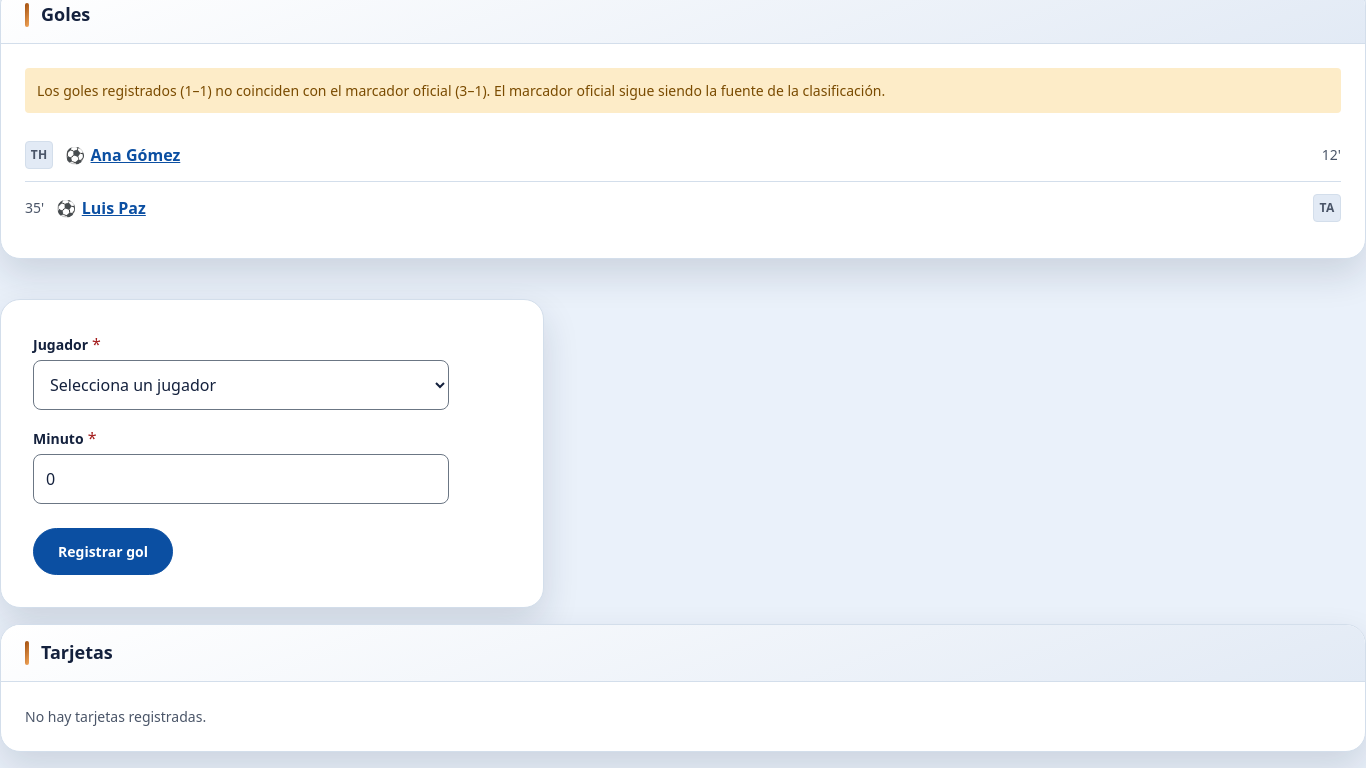
goles del partido › traduce el rechazo del jugador ajeno a un mensaje legible
(page scrolled)
Select "Ana Gómez (9)" in the dropdown labelled "Jugador" at (241, 385), box [33,360,449,410]
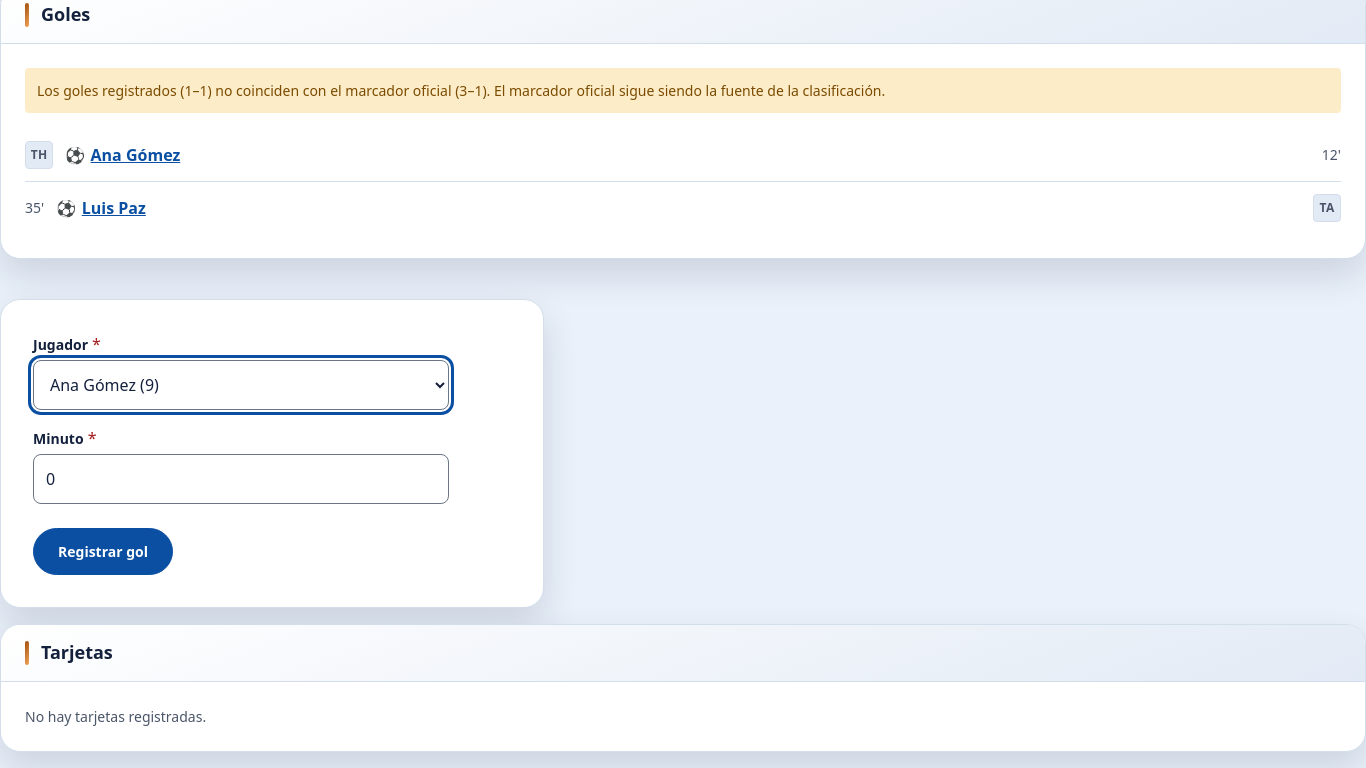
Replace the text in the number field labelled "Minuto" with "10" at (241, 479), box [33,454,449,504]
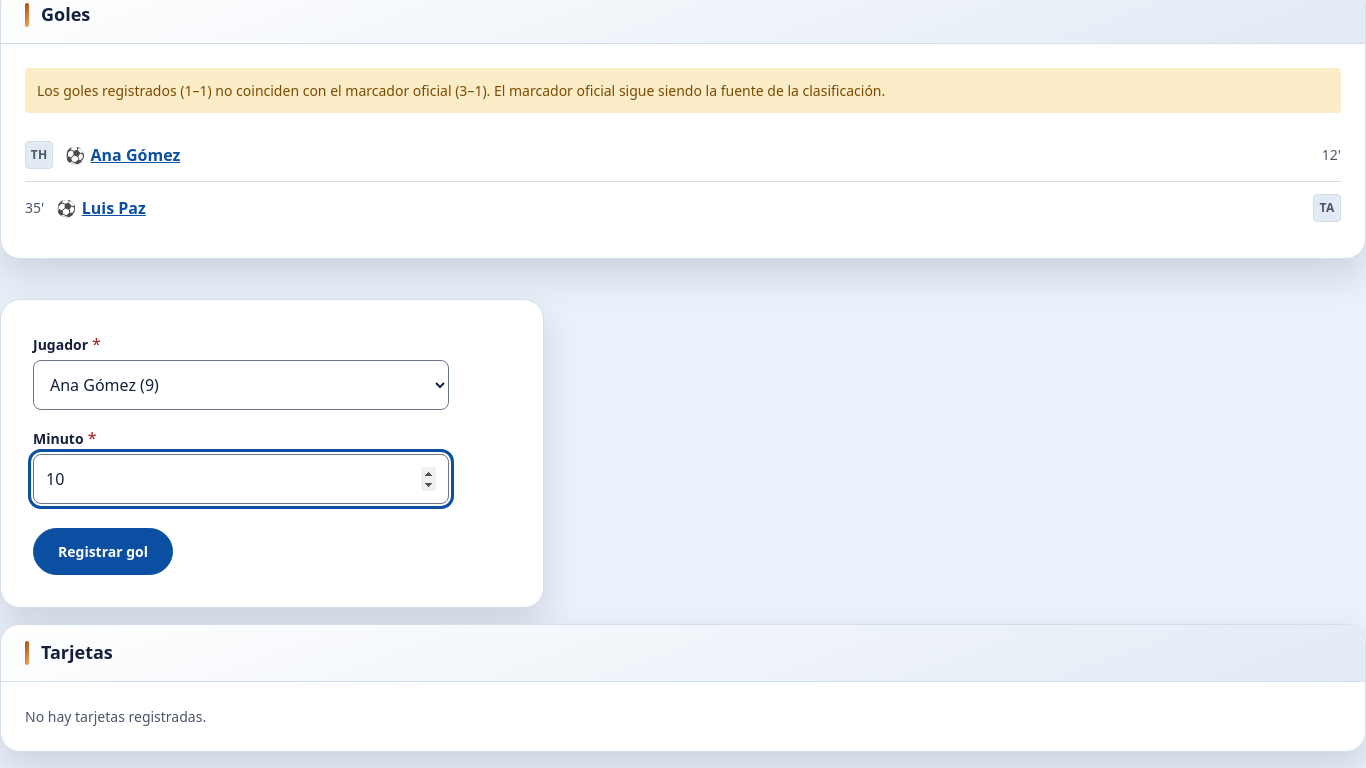
Click the button "Registrar gol" at (103, 551), box [33,528,173,575]
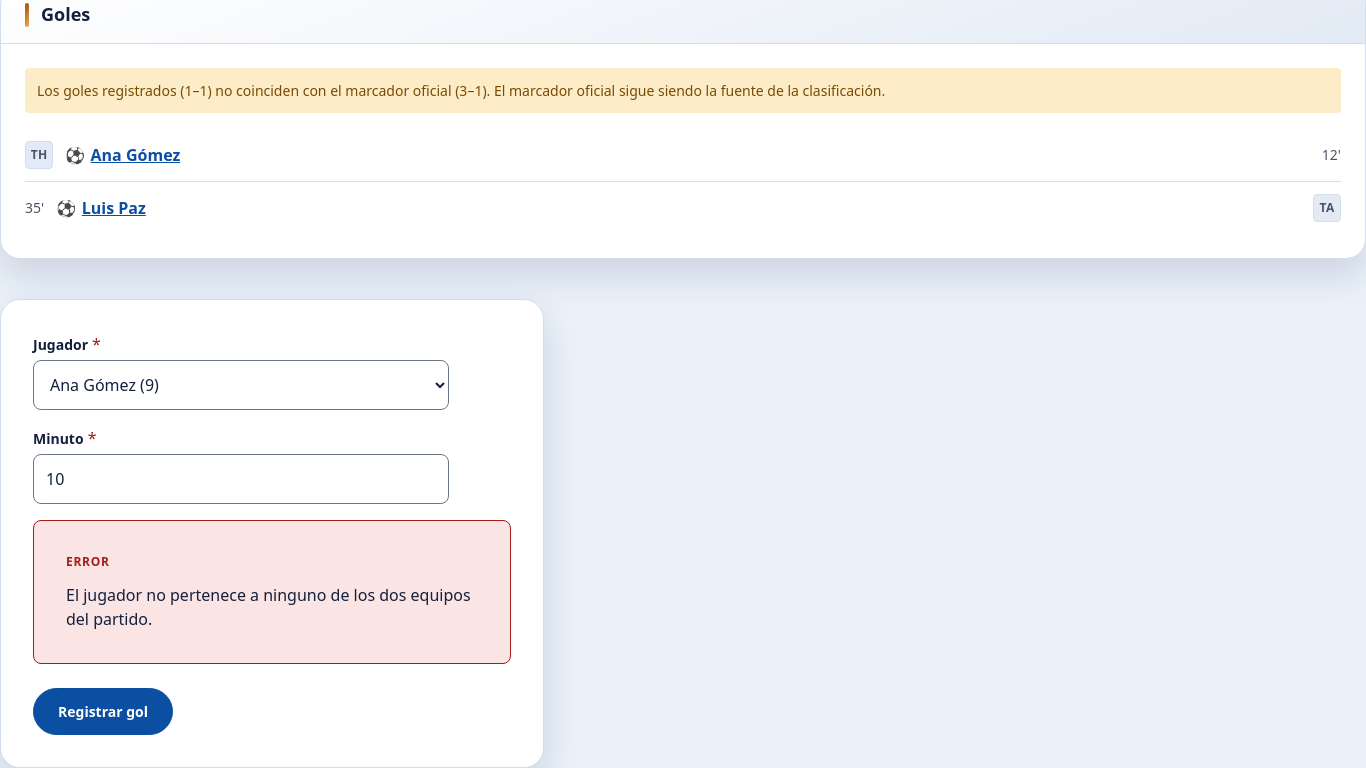
Check: the message "Error El jugador no pertenece a ninguno de los dos equipos del partido." is shown, box [33,520,511,664]
